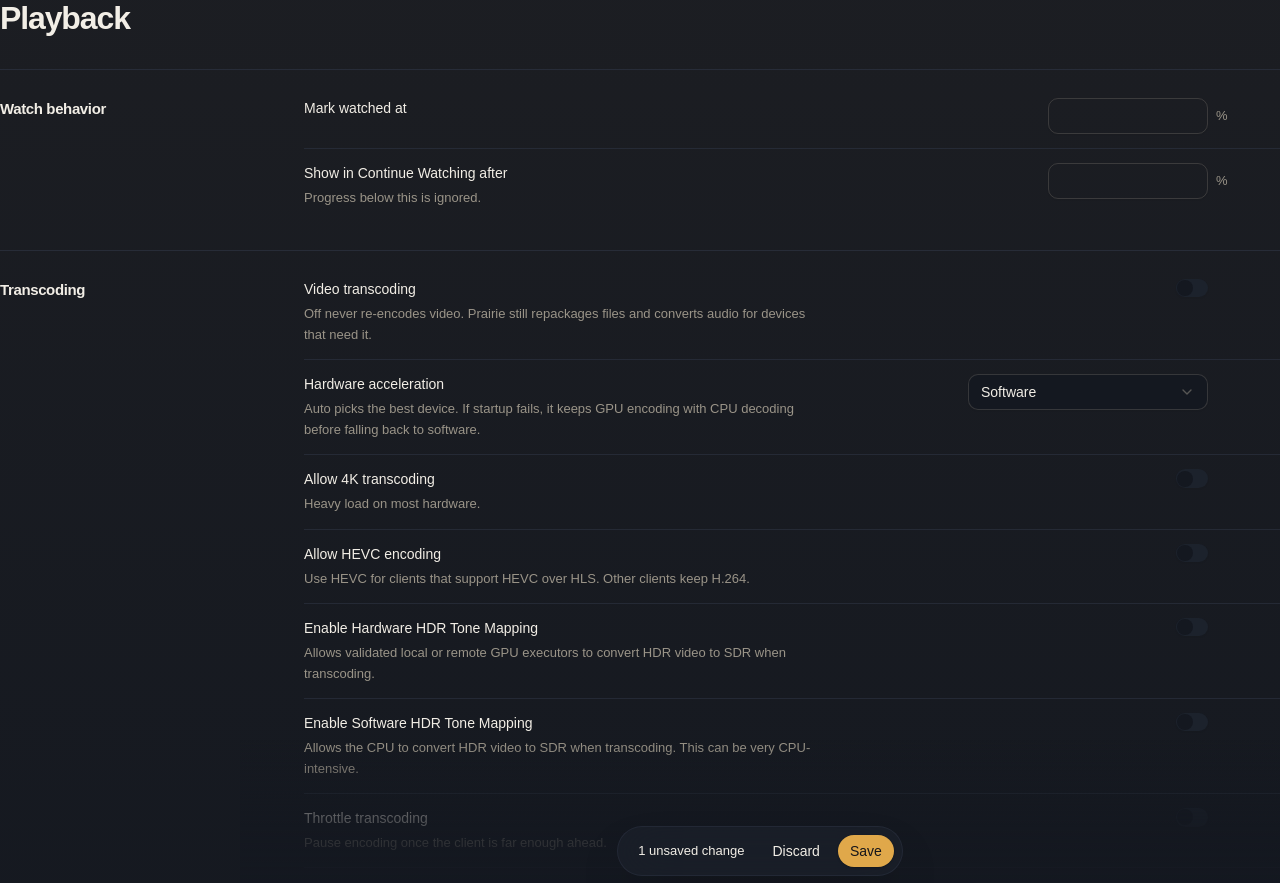
Test case: seek preview settings › asks before a new width even with no seek previews, for chapter thumbnails
The width and height of the screenshot is (1280, 883).
Click the button "Save" at (866, 851), box [838,835,894,867]
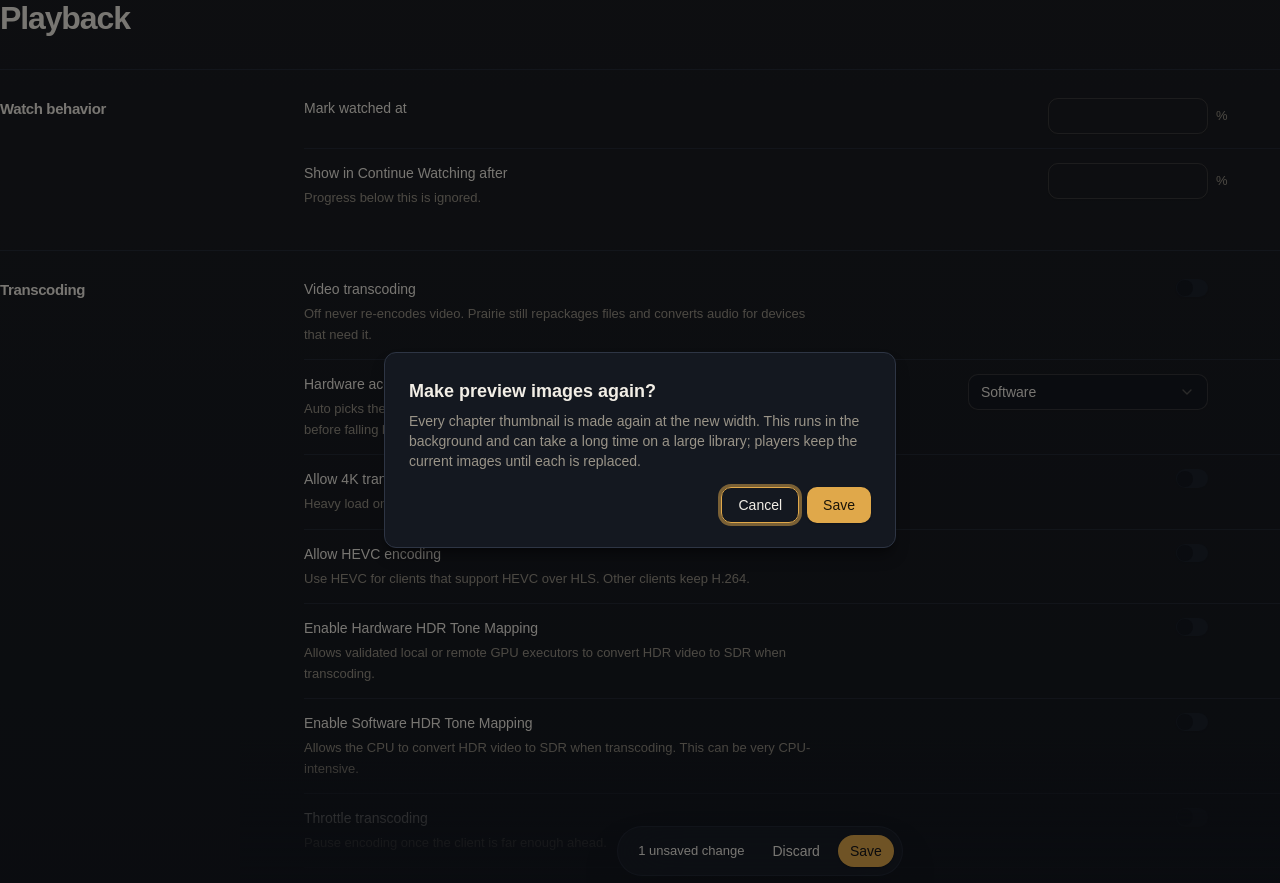
expect the text "Every chapter thumbnail is made again at the new width." is shown: met, box [409,413,859,469]
